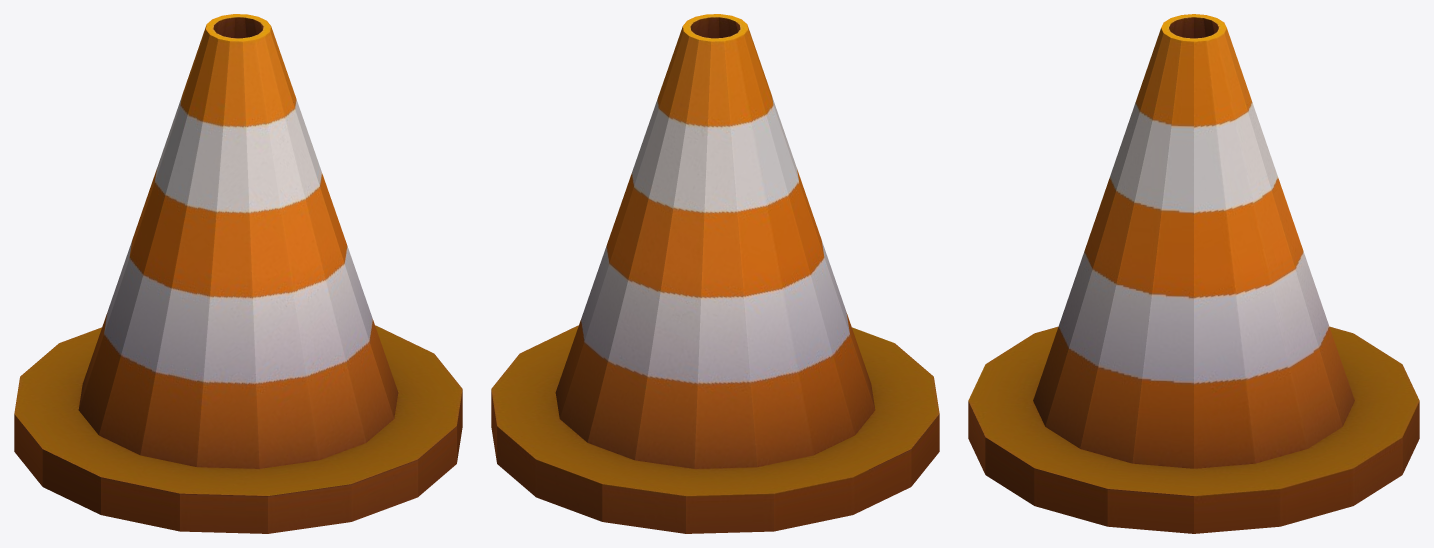
The model's file is cono.glb.
3 renders of one model, left to right at view 1: azimuth 30°, elevation 25°; view 2: azimuth 150°, elevation 25°; view 3: azimuth 270°, elevation 25°, orthographic.
Visible parts, largest first — view 1: Cylinder; view 2: Cylinder; view 3: Cylinder.
Part boxes in pixels (x1,y1,x2,y2): Cylinder: [14, 14, 462, 533]; Cylinder: [491, 14, 939, 533]; Cylinder: [968, 14, 1419, 533].
Size of the model in its own units: 0.5684 by 0.5706 by 0.5684.
1 material, 1 textured.
